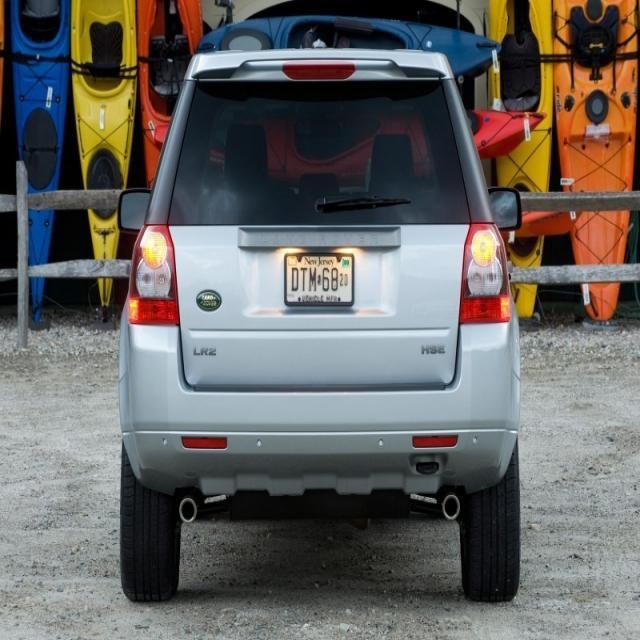Zeep: (103, 18, 559, 628)
